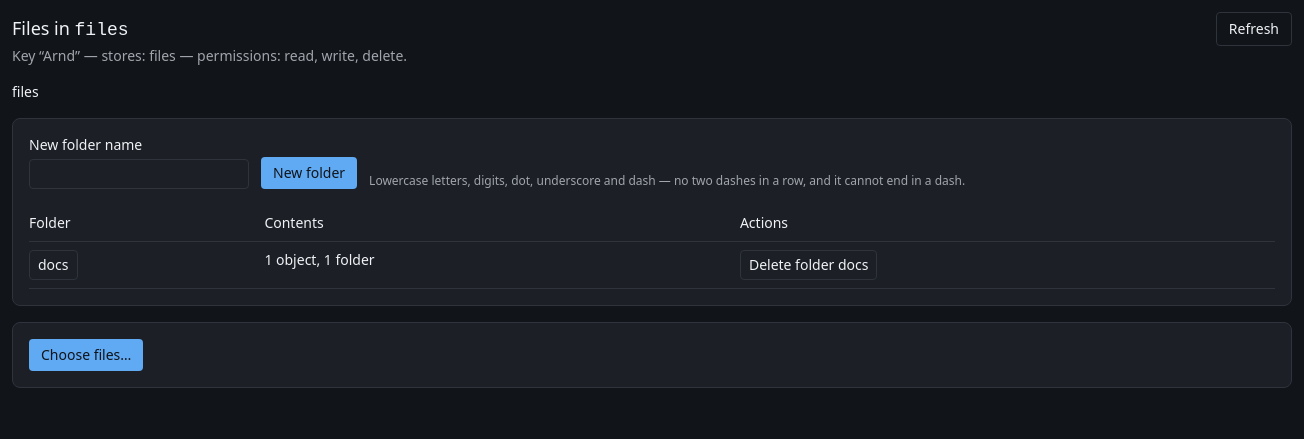
Scenario: a deeper object does not appear at the current level
Check: the text "q1.pdf" is not shown
Check: the text "reports" is not shown
Click the button "docs": (53, 265) top-left (29, 250), bottom-right (78, 280)
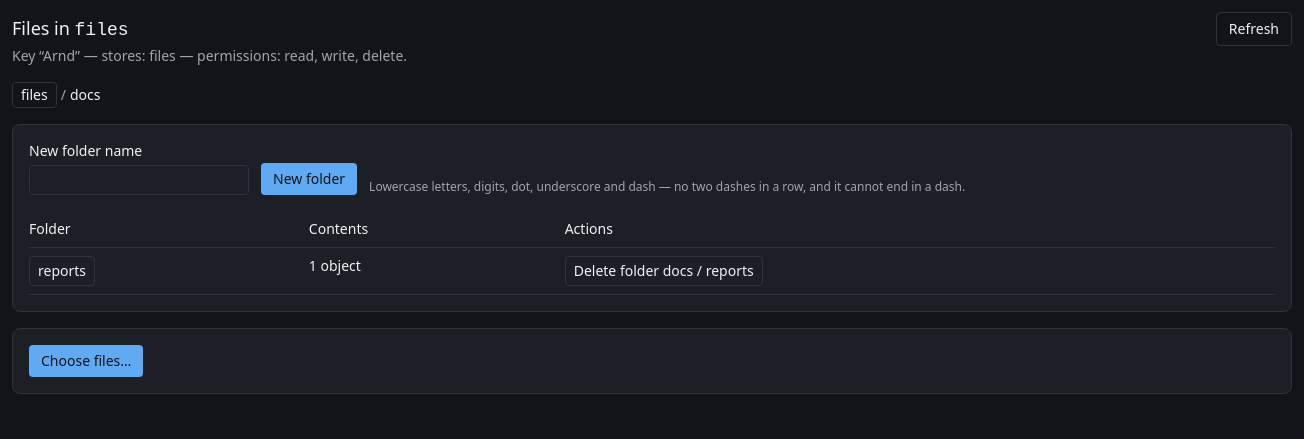
Check: the text "q1.pdf" is not shown
Check: the button "reports" is shown
Click the button "reports": (62, 271) top-left (29, 256), bottom-right (95, 286)
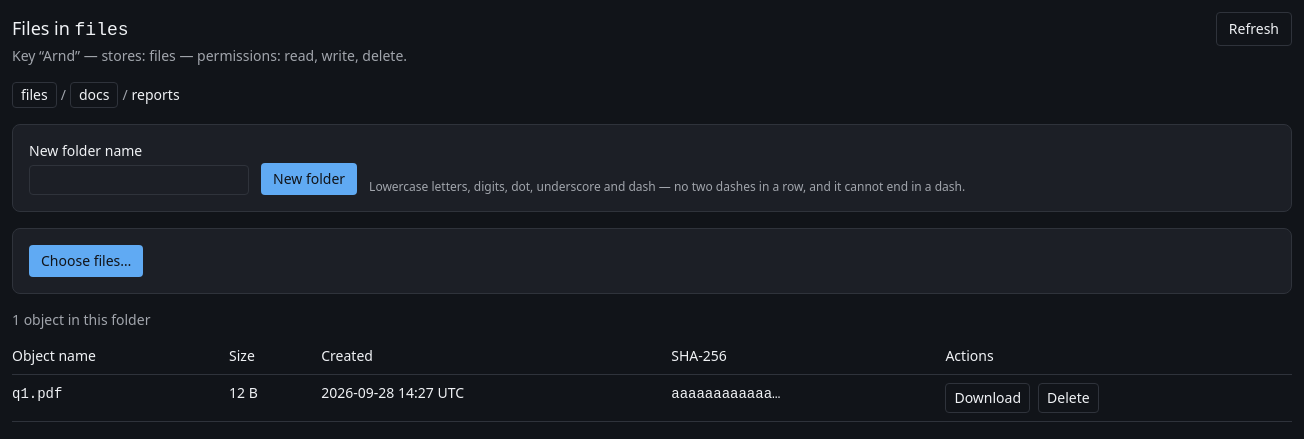
Check: the text "q1.pdf" is shown, box top-left (12, 386), bottom-right (62, 402)
